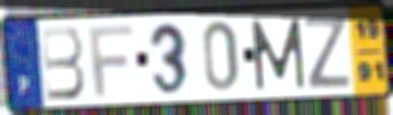0: (200, 18, 242, 95)
3: (148, 19, 196, 99)
B: (38, 24, 88, 103)
F: (86, 23, 135, 99)
M: (248, 16, 308, 93)
Z: (303, 14, 352, 90)
